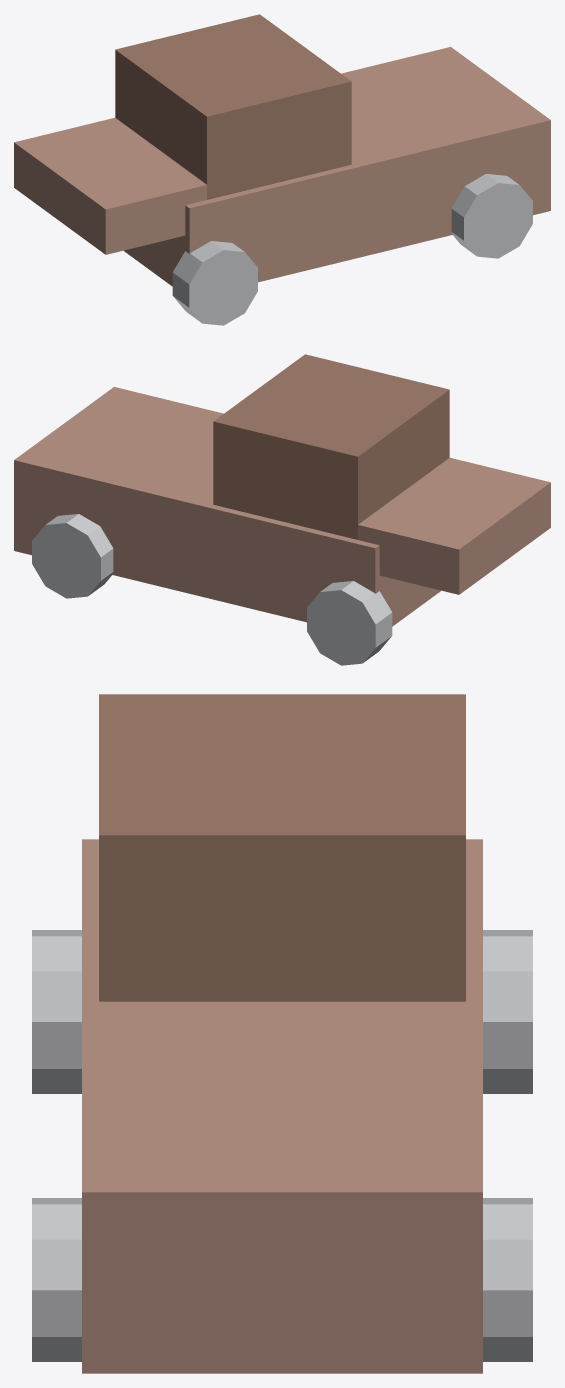
The model's file is pickup_wreck.glb.
3 views of the same model, one above another, from view 1: azimuth 30°, elevation 25°; view 2: azimuth 150°, elevation 25°; view 3: azimuth 270°, elevation 25° (orthographic). The views are drawn at different scales.
Parts seen in each view (by area): view 1: pickup_wreck; view 2: pickup_wreck; view 3: pickup_wreck.
Boxes of the visible parts, box(x1,y1,x2,y2) form: pickup_wreck: box(14, 14, 550, 325); pickup_wreck: box(14, 354, 550, 665); pickup_wreck: box(32, 694, 532, 1373).
Size of the model in its own units: 6.1 by 2.6 by 3.
